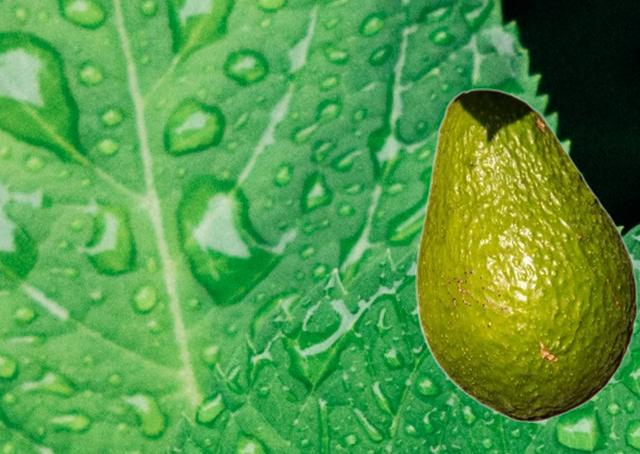avocado: (415, 88, 637, 421)
